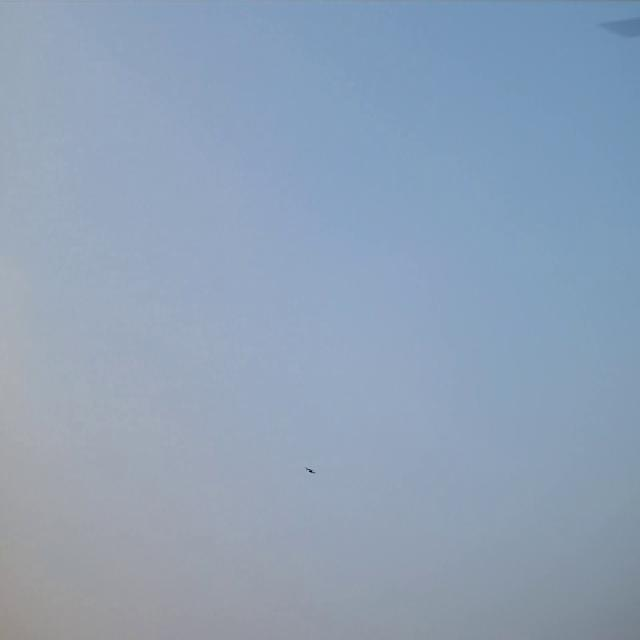UAV: (304, 466, 316, 474)
